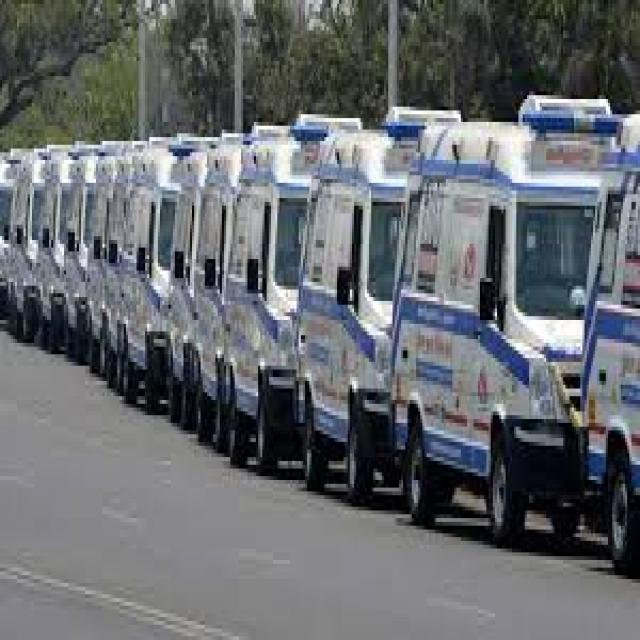ambulance: (391, 98, 600, 537), (293, 107, 421, 503), (223, 124, 305, 468)
